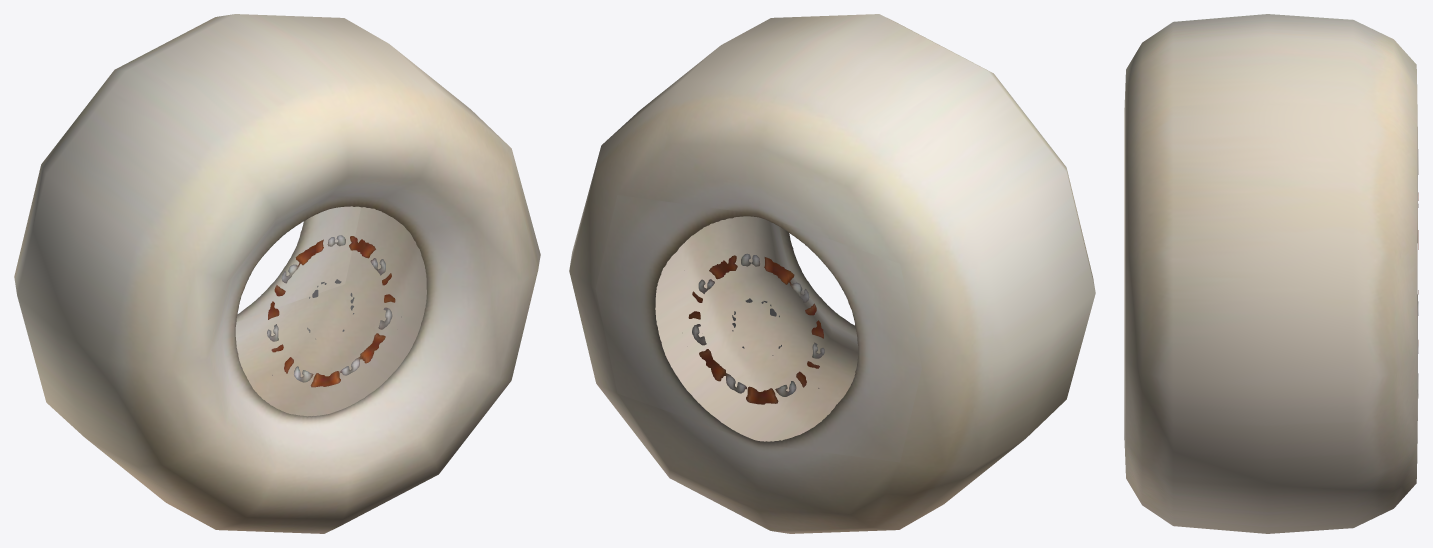
Rendered from wheel2.obj.
3 views of the same model, side by side, from view 1: azimuth 30°, elevation 25°; view 2: azimuth 150°, elevation 25°; view 3: azimuth 270°, elevation 25° (orthographic).
Parts seen in each view (by area): view 1: WHEEL2; view 2: WHEEL2; view 3: WHEEL2.
Boxes of the visible parts, x1=… form: WHEEL2: x1=14, y1=14, x2=540, y2=533; WHEEL2: x1=569, y1=14, x2=1095, y2=533; WHEEL2: x1=1124, y1=14, x2=1418, y2=533.
Size of the model in its own units: 0.1689 by 0.1689 by 0.0951.
